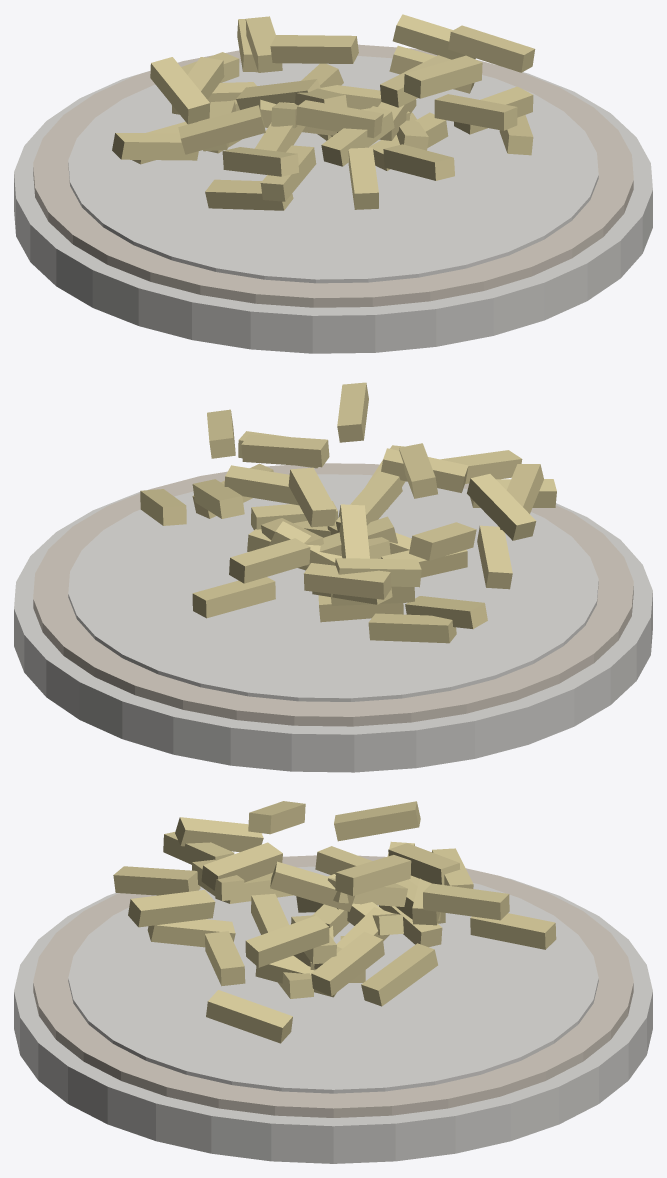
File: phomai_bao.glb
The picture shows the model from 3 angles, top to bottom: view 1: azimuth 30°, elevation 25°; view 2: azimuth 150°, elevation 25°; view 3: azimuth 270°, elevation 25°; orthographic projection.
Parts seen in each view (by area): view 1: obj_0002, obj_0000, obj_0001, obj_0033, obj_0027, obj_0004, obj_0022, obj_0029, obj_0036, obj_0028, obj_0034, obj_0014 (+25 smaller); view 2: obj_0002, obj_0000, obj_0001, obj_0029, obj_0033, obj_0021, obj_0017, obj_0024, obj_0031, obj_0012, obj_0027, obj_0014 (+21 smaller); view 3: obj_0002, obj_0000, obj_0001, obj_0015, obj_0004, obj_0036, obj_0008, obj_0032, obj_0021, obj_0022, obj_0031, obj_0013 (+23 smaller).
Boxes of the visible parts, <box> form: obj_0002: <box>68,56,598,283</box>; obj_0000: <box>14,70,652,353</box>; obj_0001: <box>33,44,633,307</box>; obj_0033: <box>178,105,265,154</box>; obj_0027: <box>270,35,358,63</box>; obj_0004: <box>448,25,535,72</box>; obj_0022: <box>150,57,209,124</box>; obj_0029: <box>404,55,482,98</box>; obj_0036: <box>434,94,517,130</box>; obj_0028: <box>296,100,383,138</box>; obj_0034: <box>112,132,198,160</box>; obj_0014: <box>205,179,293,210</box>; obj_0002: <box>68,474,598,701</box>; obj_0000: <box>14,489,652,772</box>; obj_0001: <box>33,463,633,726</box>; obj_0029: <box>241,434,329,467</box>; obj_0033: <box>467,474,536,540</box>; obj_0021: <box>229,538,310,583</box>; obj_0017: <box>368,613,456,643</box>; obj_0024: <box>304,563,391,599</box>; obj_0031: <box>192,577,275,618</box>; obj_0012: <box>224,465,298,505</box>; obj_0027: <box>288,467,335,527</box>; obj_0014: <box>477,525,512,589</box>; obj_0002: <box>68,866,598,1093</box>; obj_0000: <box>14,877,652,1163</box>; obj_0001: <box>33,855,633,1117</box>; obj_0015: <box>206,990,292,1043</box>; obj_0004: <box>245,915,329,967</box>; obj_0036: <box>128,890,215,927</box>; obj_0008: <box>361,943,437,1006</box>; obj_0032: <box>311,931,384,996</box>; obj_0021: <box>423,883,509,920</box>; obj_0022: <box>334,801,420,841</box>; obj_0031: <box>470,913,556,949</box>; obj_0013: <box>113,866,200,895</box>.
Bounding box in the file's own units: 1.84 × 0.5307 × 1.84.
